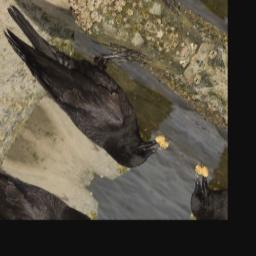Crow: (0, 0, 200, 184)
